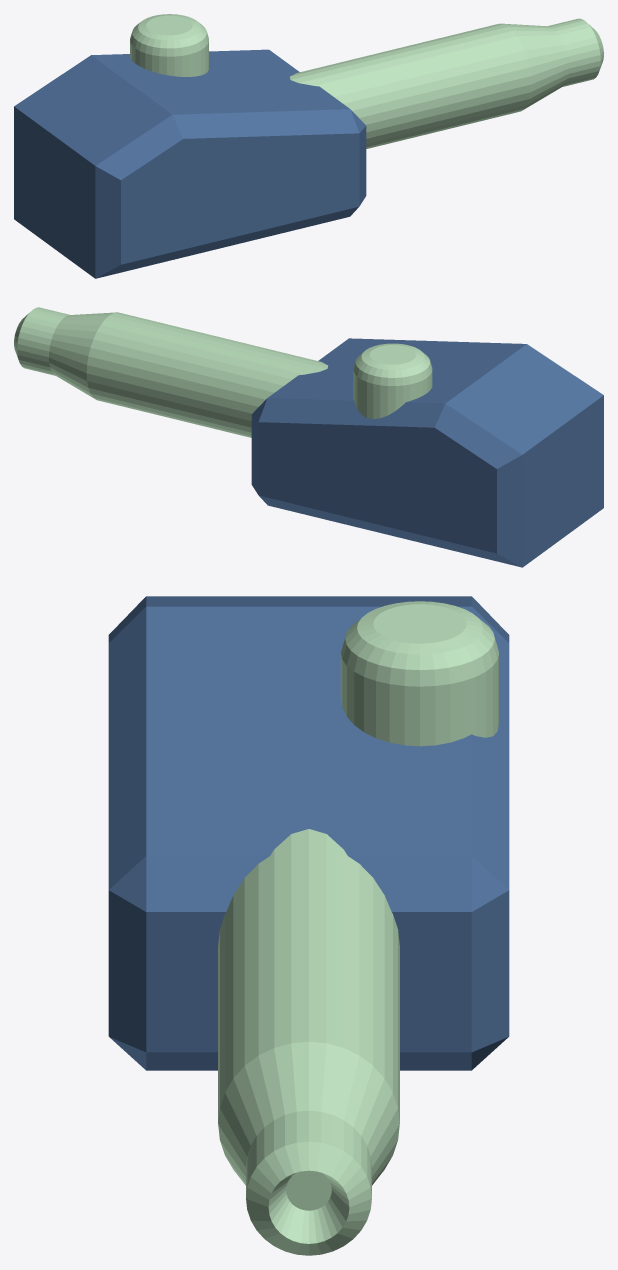
Rendered from head.glb.
The picture shows the model from 3 angles, top to bottom: view 1: azimuth 30°, elevation 25°; view 2: azimuth 150°, elevation 25°; view 3: azimuth 270°, elevation 25°; orthographic projection. The views are drawn at different scales.
Parts seen in each view (by area): view 1: Cube.018; view 2: Cube.018; view 3: Cube.018.
Boxes of the visible parts, x1,y1,x2,y2 form: Cube.018: (14,14,603,278); Cube.018: (14,307,603,567); Cube.018: (108,596,509,1255).
Bounding box in the file's own units: 1.97 × 0.5888 × 0.634.
1 material, 1 textured.
